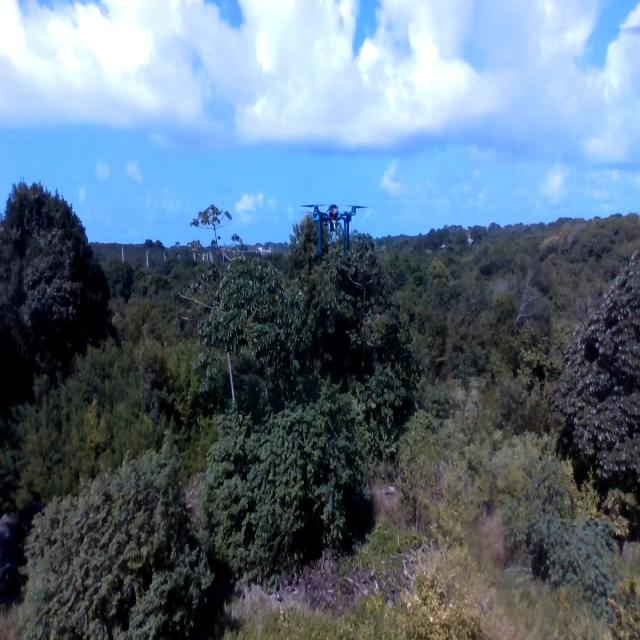-uav-: (297, 187, 376, 271)
